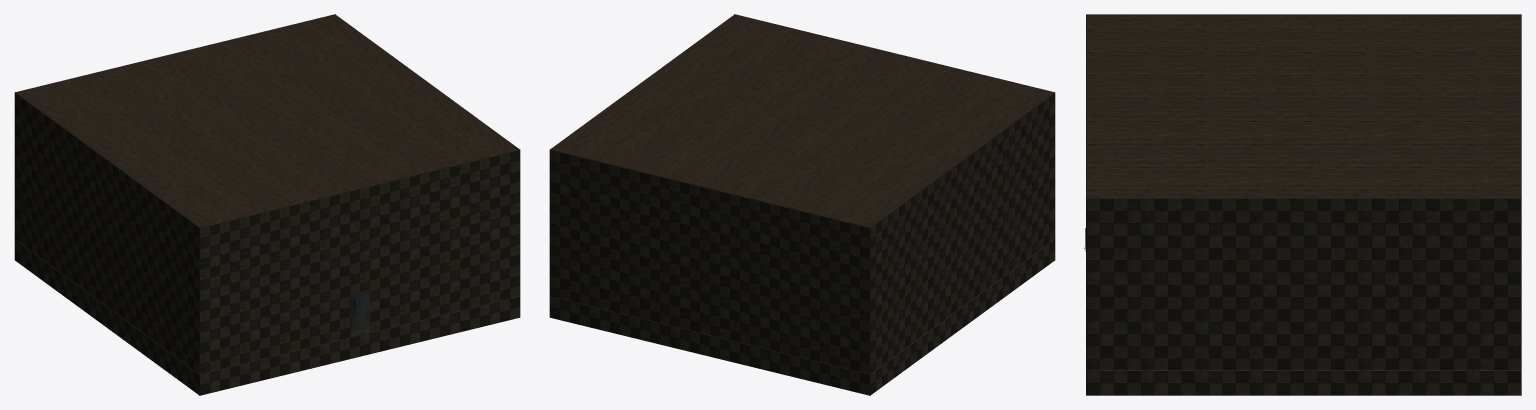
File: RotRoom.glb
3 renders of one model, left to right at view 1: azimuth 30°, elevation 25°; view 2: azimuth 150°, elevation 25°; view 3: azimuth 270°, elevation 25°, orthographic. The views are drawn at different scales.
Visible parts, largest first — view 1: floor_ceiling_2.016, floor_ceiling_2.006, floor_ceiling_2.004, floor_ceiling_2.001, floor_ceiling_2.017, floor_ceiling_2.023, floor_ceiling_2.011, floor_ceiling_2.005, floor_ceiling_2.024, floor_ceiling_2.018, floor_ceiling_2.019, floor_ceiling_2.010 (+21 smaller); view 2: floor_ceiling_2.028, floor_ceiling_2.032, floor_ceiling_2.031, floor_ceiling_2.025, floor_ceiling_2.029, floor_ceiling_2.030, floor_ceiling_2.026, floor_ceiling_2.027, floor_ceiling_2.018, floor_ceiling_2.019, floor_ceiling_2.021, floor_ceiling_2.012 (+20 smaller); view 3: floor_ceiling_2.007, floor_ceiling_2.009, floor_ceiling_2.008, floor_ceiling_2.020, floor_ceiling_2.002, floor_ceiling_2.003, floor_ceiling_2.014, floor_ceiling_2.015, floor_ceiling_1.015, floor_ceiling_1.016, floor_ceiling_1.030, floor_ceiling_1.017 (+12 smaller).
Boxes of the visible parts, left/top/right/bottom form: floor_ceiling_2.016: left=199, top=208, right=279, bottom=311; floor_ceiling_2.006: left=440, top=149, right=520, bottom=252; floor_ceiling_2.004: left=199, top=292, right=279, bottom=395; floor_ceiling_2.001: left=440, top=233, right=520, bottom=336; floor_ceiling_2.017: left=280, top=188, right=359, bottom=291; floor_ceiling_2.023: left=360, top=169, right=439, bottom=272; floor_ceiling_2.011: left=360, top=253, right=439, bottom=356; floor_ceiling_2.005: left=280, top=273, right=359, bottom=375; floor_ceiling_2.024: left=153, top=193, right=199, bottom=311; floor_ceiling_2.018: left=61, top=126, right=107, bottom=243; floor_ceiling_2.019: left=107, top=160, right=153, bottom=277; floor_ceiling_2.010: left=61, top=210, right=107, bottom=327; floor_ceiling_2.028: left=549, top=149, right=629, bottom=252; floor_ceiling_2.032: left=790, top=208, right=870, bottom=311; floor_ceiling_2.031: left=790, top=292, right=870, bottom=395; floor_ceiling_2.025: left=549, top=233, right=629, bottom=336; floor_ceiling_2.029: left=630, top=169, right=709, bottom=272; floor_ceiling_2.030: left=710, top=188, right=789, bottom=291; floor_ceiling_2.026: left=630, top=253, right=709, bottom=356; floor_ceiling_2.027: left=710, top=273, right=789, bottom=375; floor_ceiling_2.018: left=916, top=160, right=962, bottom=277; floor_ceiling_2.019: left=962, top=126, right=1008, bottom=243; floor_ceiling_2.021: left=870, top=194, right=916, bottom=311; floor_ceiling_2.012: left=962, top=210, right=1008, bottom=327; floor_ceiling_2.007: left=1412, top=297, right=1521, bottom=395; floor_ceiling_2.009: left=1412, top=198, right=1521, bottom=296; floor_ceiling_2.008: left=1086, top=297, right=1195, bottom=395; floor_ceiling_2.020: left=1086, top=198, right=1195, bottom=296; floor_ceiling_2.002: left=1195, top=297, right=1303, bottom=395; floor_ceiling_2.003: left=1304, top=297, right=1412, bottom=395; floor_ceiling_2.014: left=1195, top=198, right=1303, bottom=296; floor_ceiling_2.015: left=1304, top=198, right=1412, bottom=296; floor_ceiling_1.015: left=1086, top=106, right=1195, bottom=152; floor_ceiling_1.016: left=1086, top=60, right=1195, bottom=106; floor_ceiling_1.030: left=1086, top=152, right=1195, bottom=198; floor_ceiling_1.017: left=1086, top=14, right=1195, bottom=60.
Size of the model in its own units: 16.04 by 8.04 by 16.11.
Materials: 22 (21 with a texture image).
